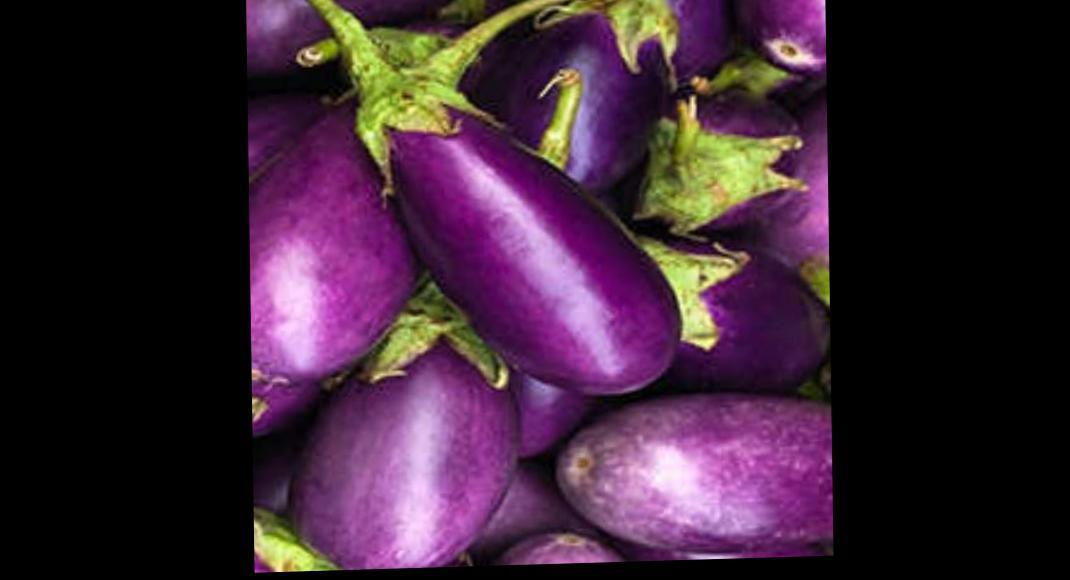eggplant: (370, 0, 804, 570)
